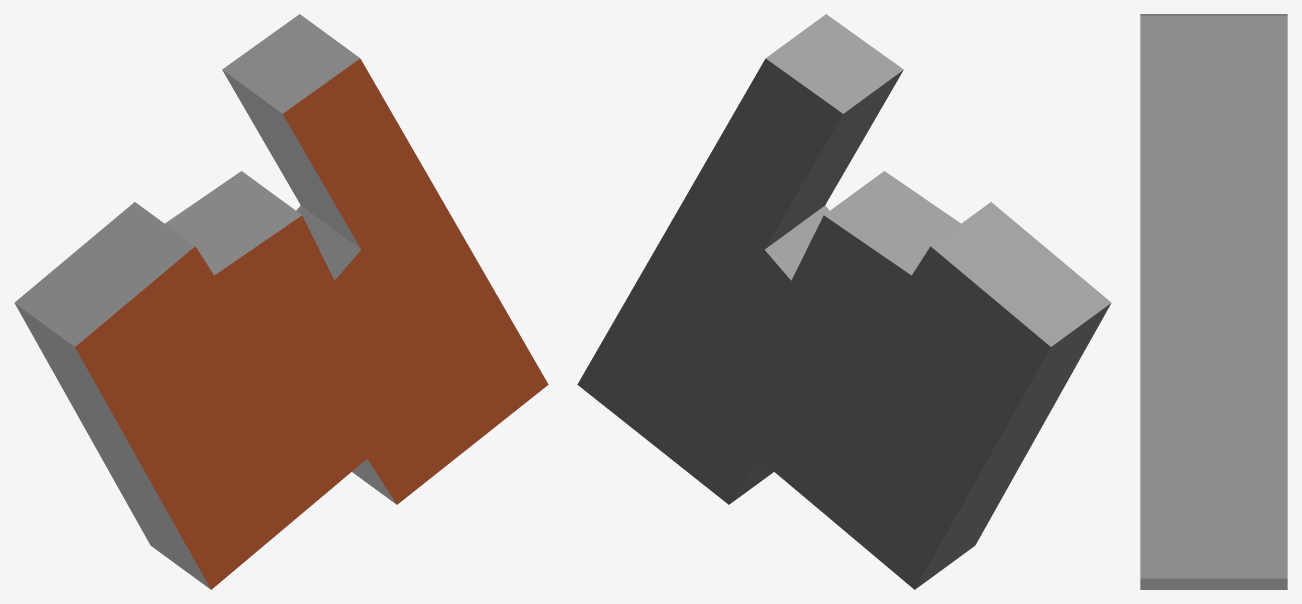
The model's file is construction_1842_assumed_A_Casa_h6m.obj.
The picture shows the model from 3 angles, left to right: view 1: azimuth 30°, elevation 25°; view 2: azimuth 150°, elevation 25°; view 3: azimuth 270°, elevation 25°; orthographic projection. The views are drawn at different scales.
Visible parts, largest first — view 1: construction_1842_assumed_A_Casa; view 2: construction_1842_assumed_A_Casa; view 3: construction_1842_assumed_A_Casa.
Part boxes in pixels (x1,y1,x2,y2): construction_1842_assumed_A_Casa: (14, 14, 548, 589); construction_1842_assumed_A_Casa: (577, 14, 1111, 589); construction_1842_assumed_A_Casa: (1140, 14, 1287, 589).
Bounding box in the file's own units: 27.07 × 27.04 × 6.
